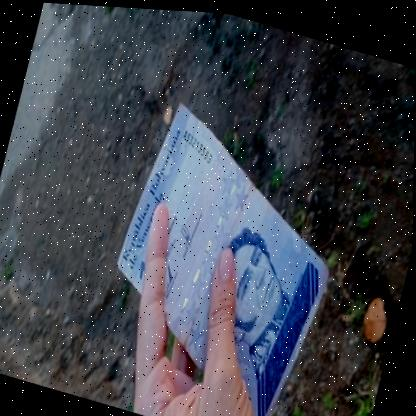ten-front-vef: (85, 89, 361, 416)
